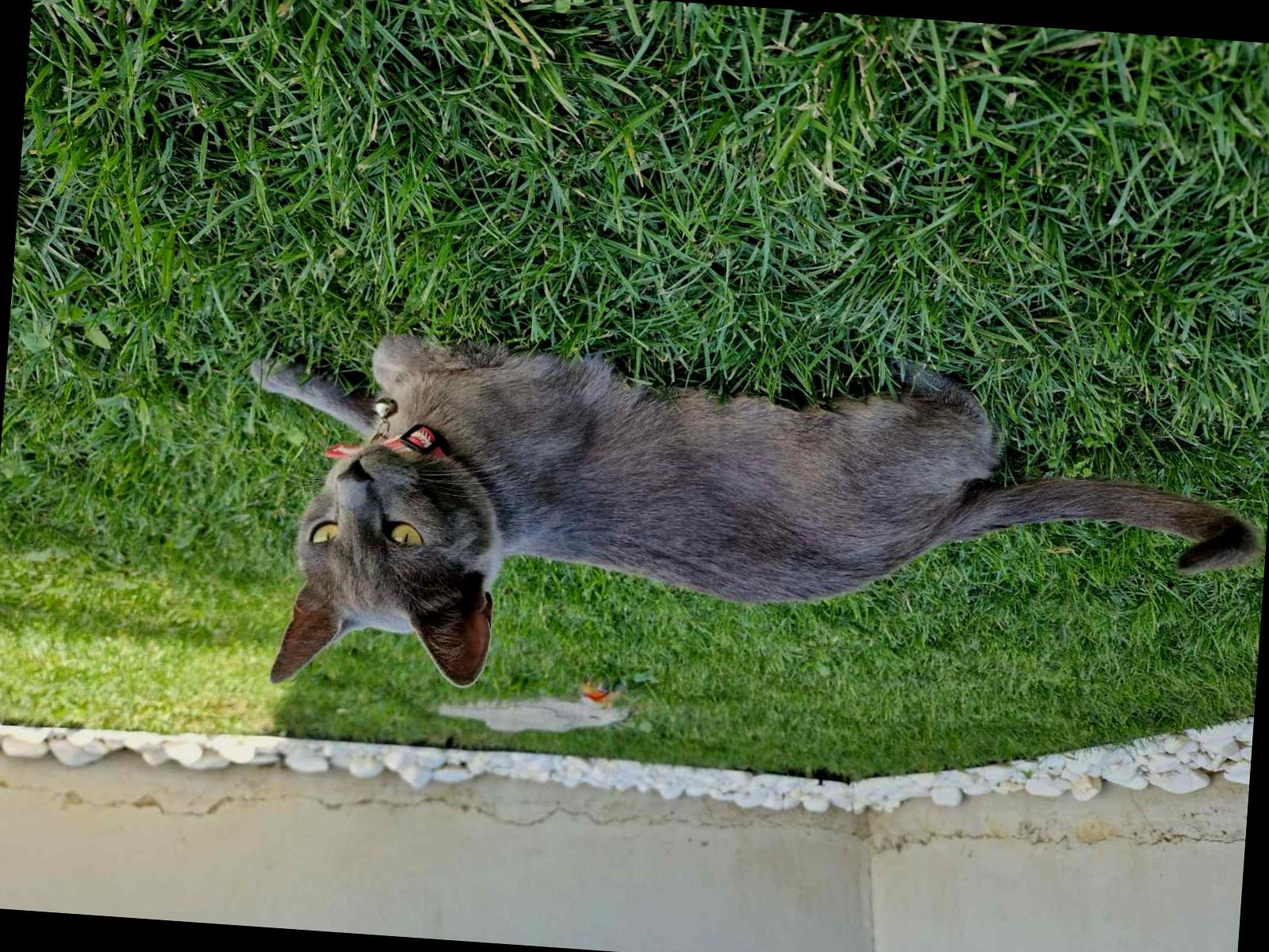macka: (223, 321, 1269, 743)
